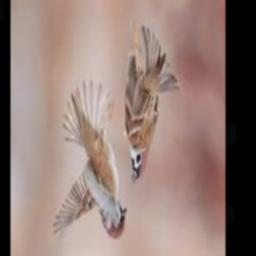Sparrow: (52, 78, 127, 238), (125, 26, 182, 185)
